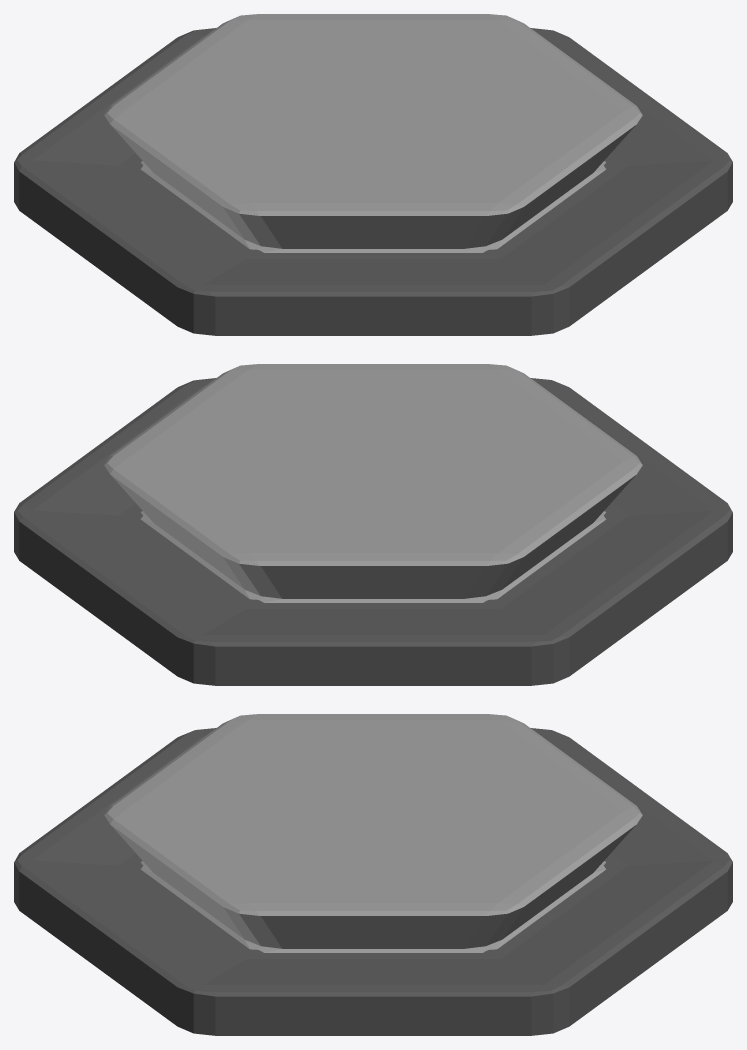
Rendered from TouchStone.fbx.
The picture shows the model from 3 angles, top to bottom: view 1: azimuth 30°, elevation 25°; view 2: azimuth 150°, elevation 25°; view 3: azimuth 270°, elevation 25°; orthographic projection.
Visible parts, largest first — view 1: Cylinder.027; view 2: Cylinder.027; view 3: Cylinder.027.
Part boxes in pixels (bbox=[...]): Cylinder.027: bbox=[14, 14, 732, 335]; Cylinder.027: bbox=[14, 364, 732, 685]; Cylinder.027: bbox=[14, 714, 732, 1035].
Bounding box in the file's own units: 123 × 19.6 × 139.
